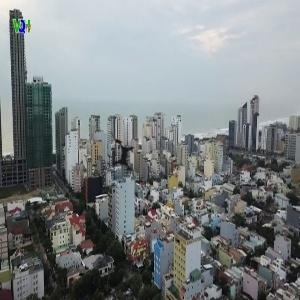drone: (86, 119, 160, 193)
